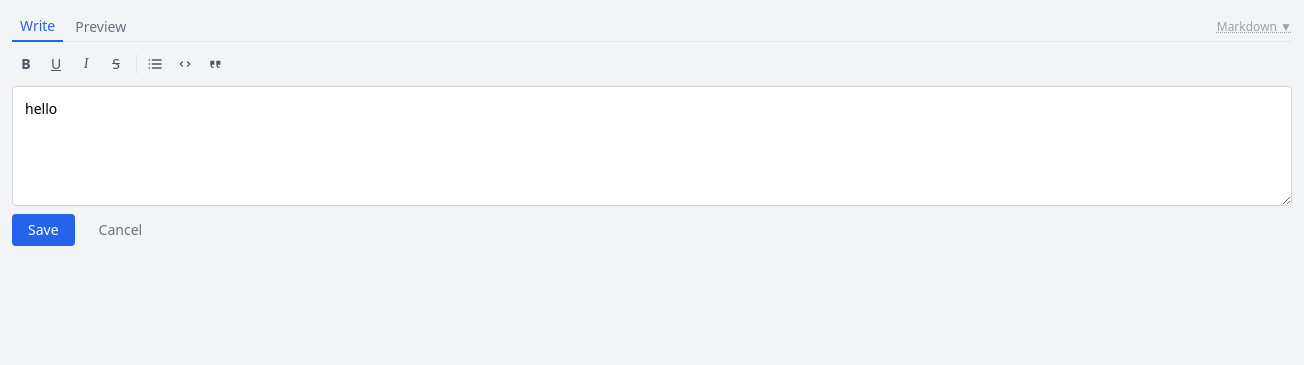
MarkdownEditor › toggles a syntax cheatsheet when the Markdown hint is clicked
expect the text "Bold" is not shown: met
Click the button "Markdown ▼". click: (1254, 26)
box: [1217,18,1292,34]
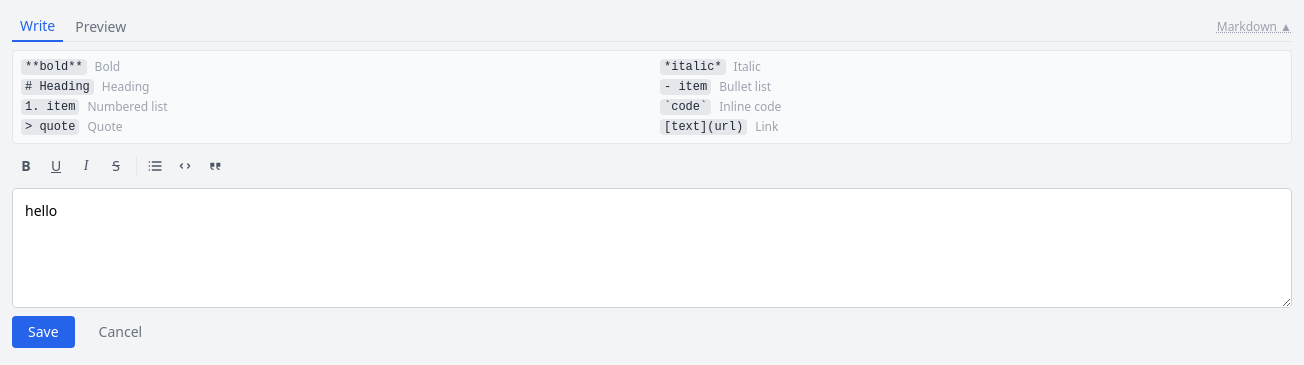
expect the text "Bold" is shown: met, box [95,59,120,75]
expect the text "**bold**" is shown: met, box [21,59,87,75]
expect the text "Bullet list" is shown: met, box [719,79,771,95]
